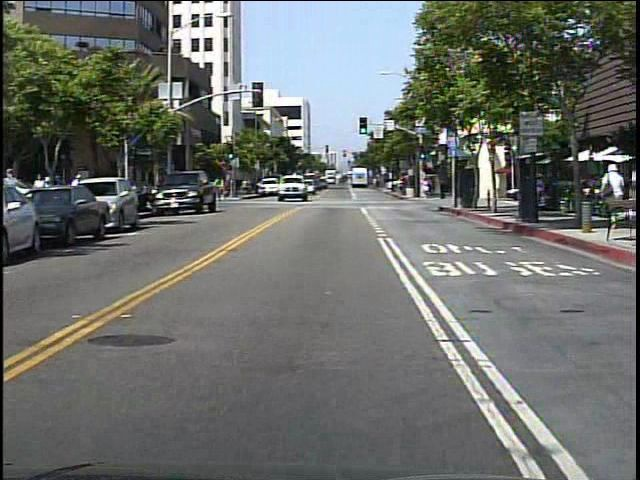person: (596, 158, 627, 226), (216, 175, 227, 203), (420, 177, 431, 200)
